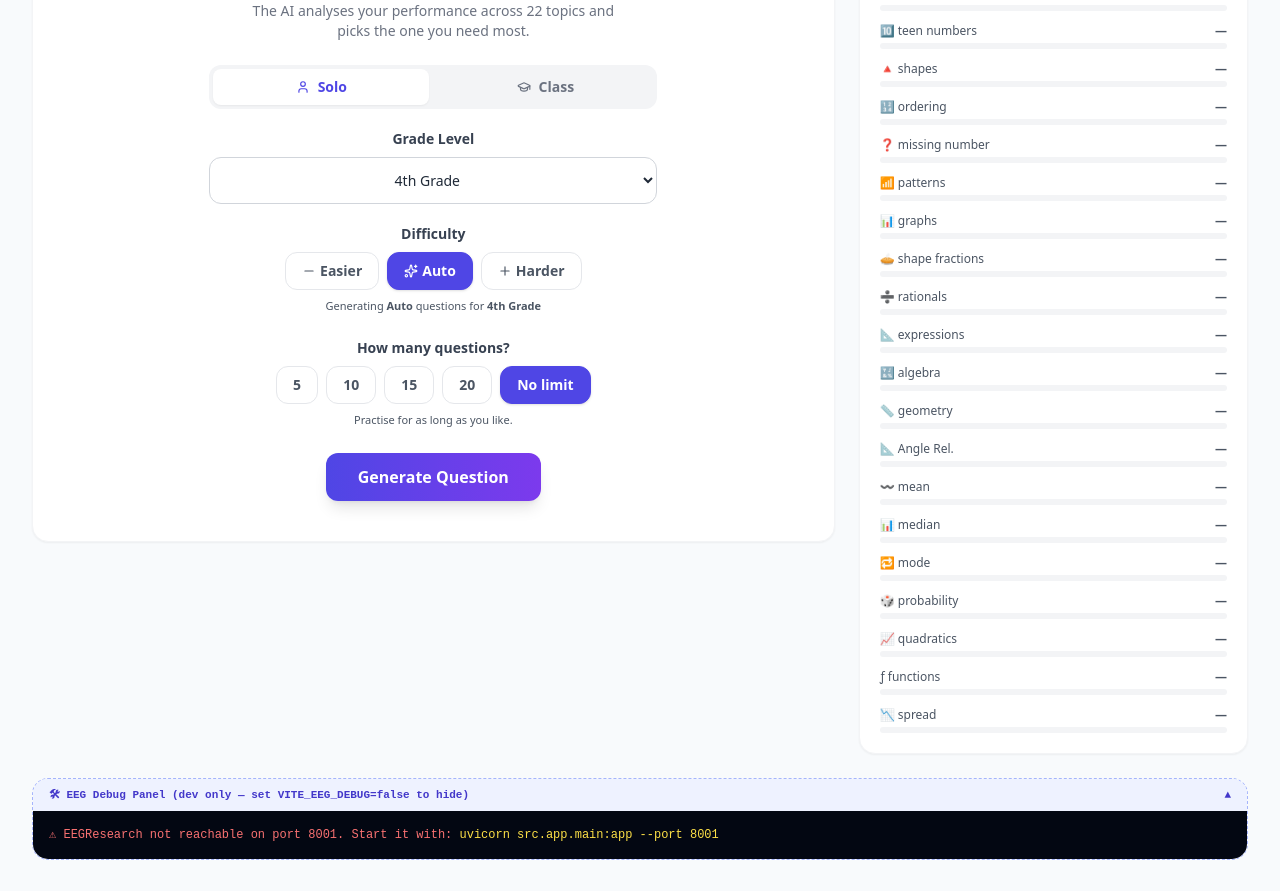
stops asking for itself while the sidecar's answer is recent, and asks again once it is old
The image size is (1280, 891).
(page scrolled)
Step 1. Click the button "Generate Question" → (433, 476), box [326,452,541,500]
(page scrolled)
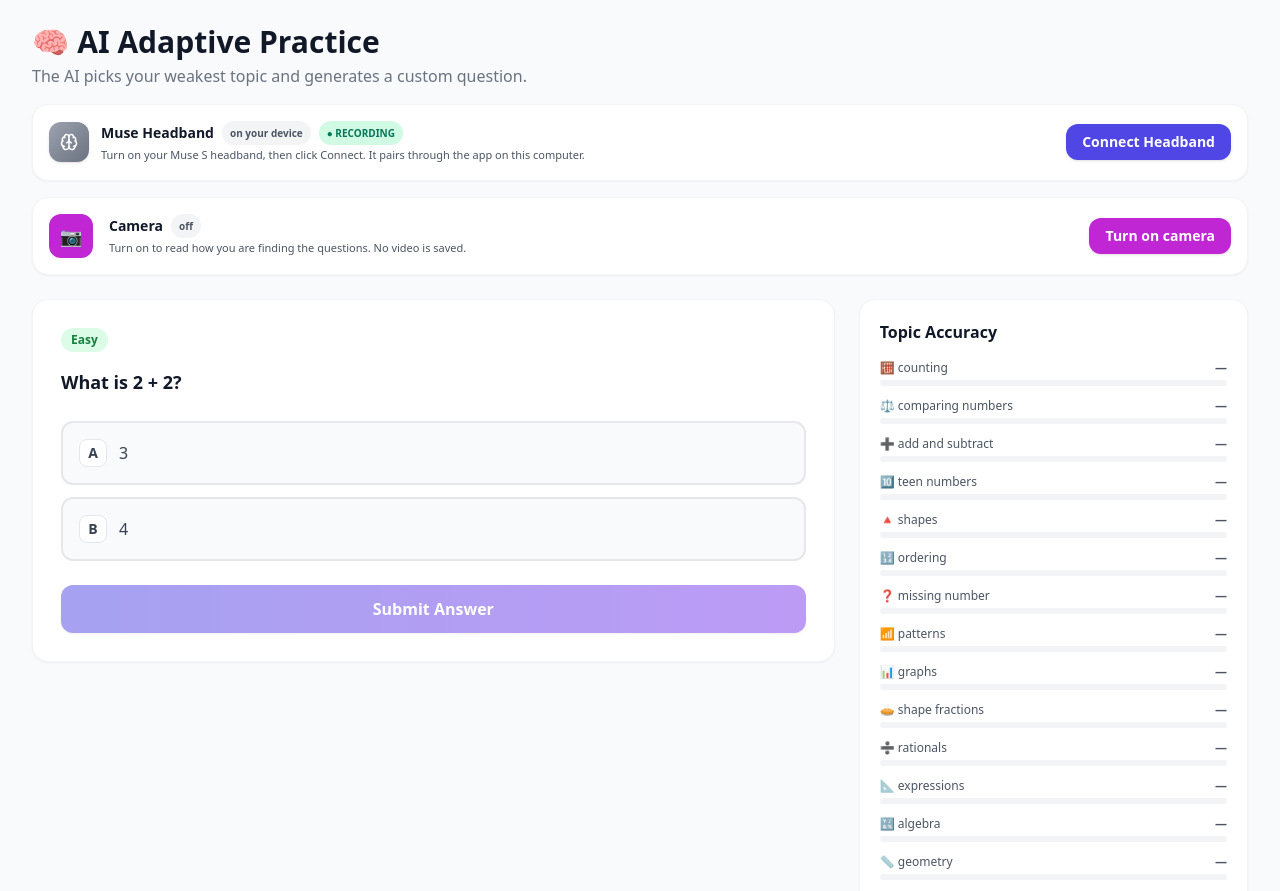
expect the text "What is 2 + 2?" is shown: met, box [61,370,182,394]
